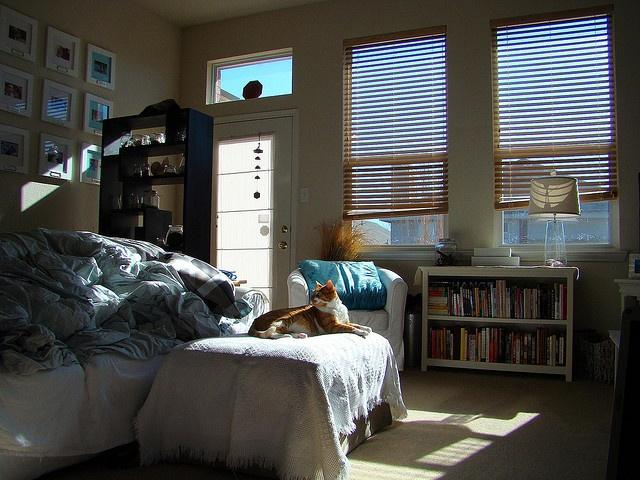Rak: (418, 265, 577, 383)
